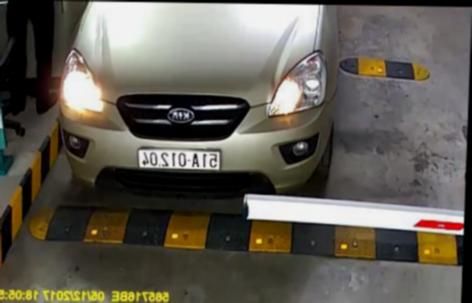License_Plate: (135, 143, 226, 175)
